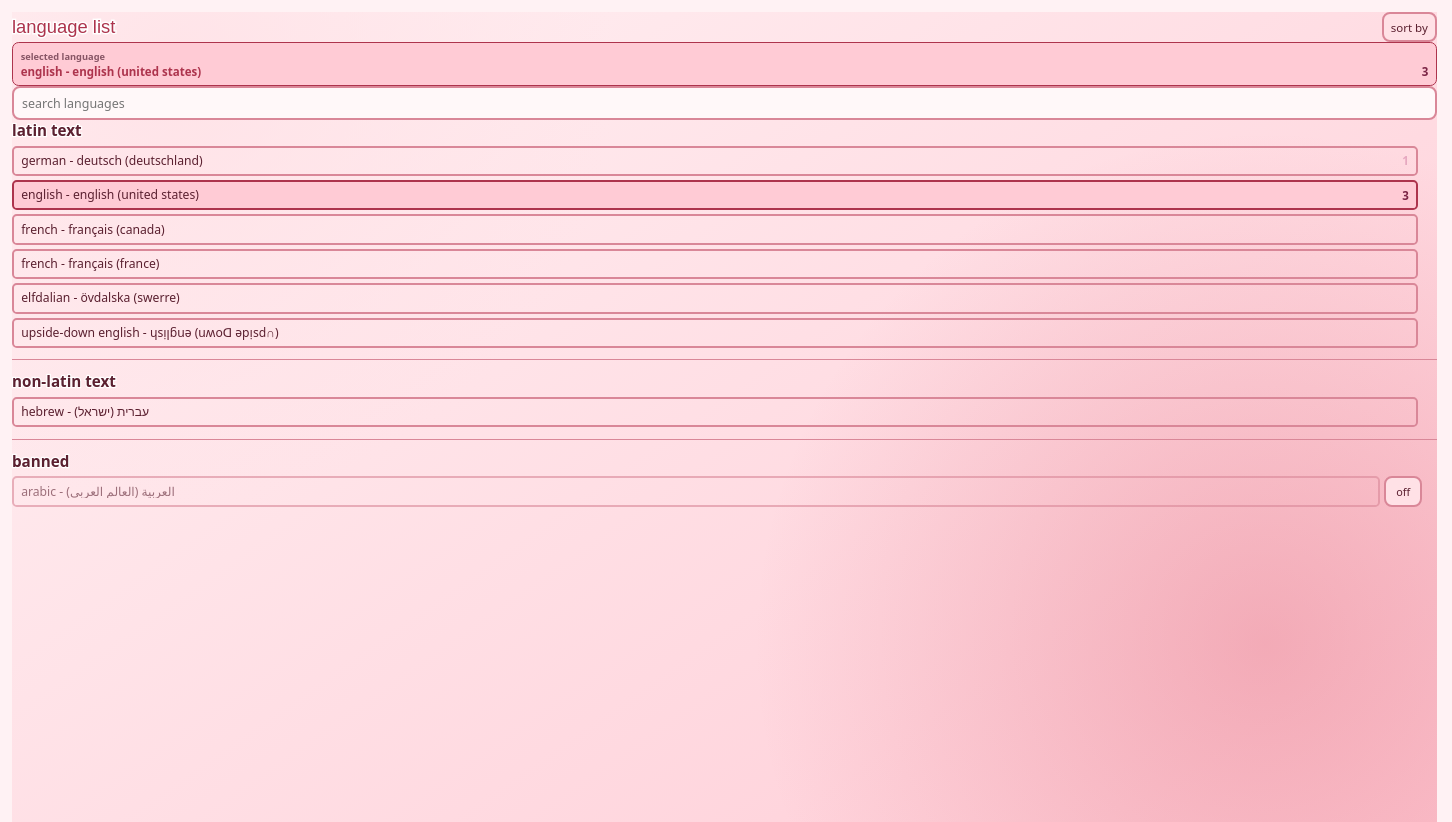
Test case: LanguageSelector › filters one dropdown with one Unicode-aware language search and ranks ready scores first
Step 1. Type "عرب" into the search field labelled "search languages" → (724, 103), box [12,86,1437,120]
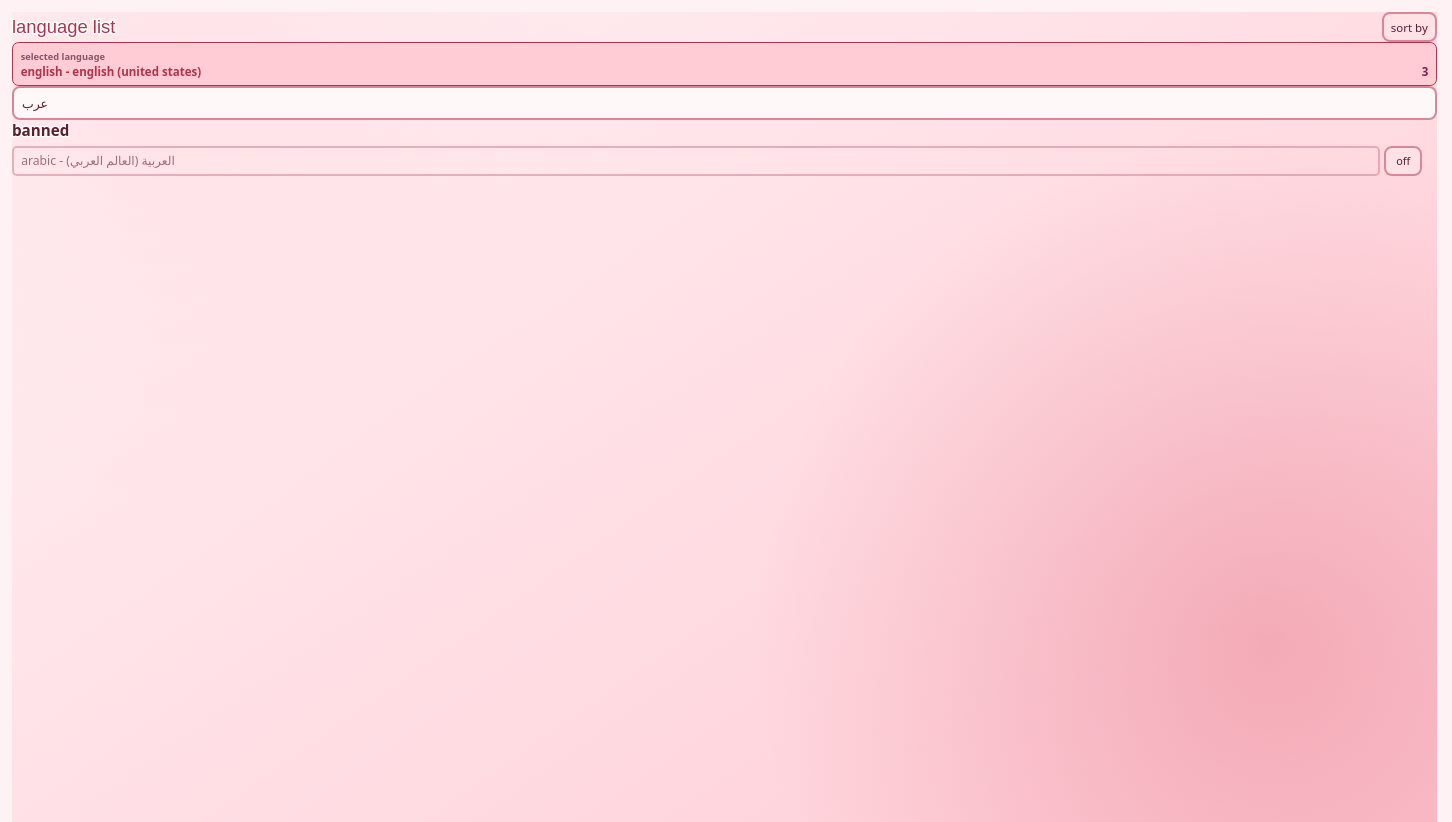
Expected: the button "arabic - العربية (العالم العربي)" is shown, [12,146,1380,176]
Expected: the button "elfdalian - övdalska (swerre)" is gone
